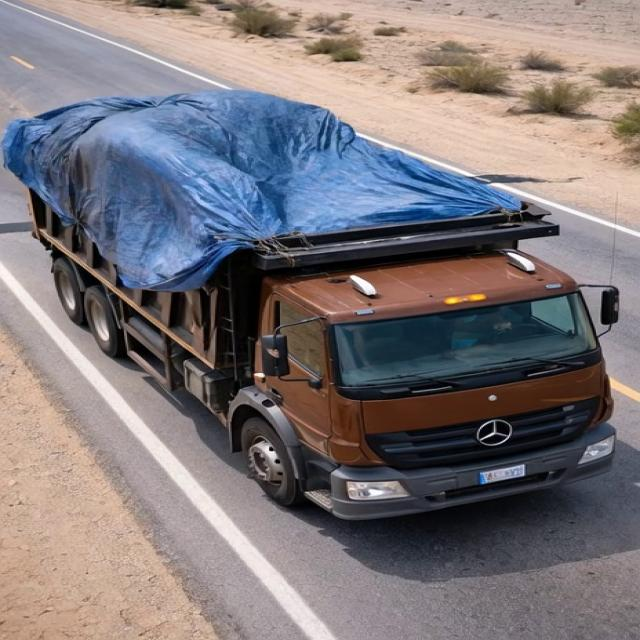trailer: (0, 86, 557, 244)
truck: (8, 67, 617, 529)
